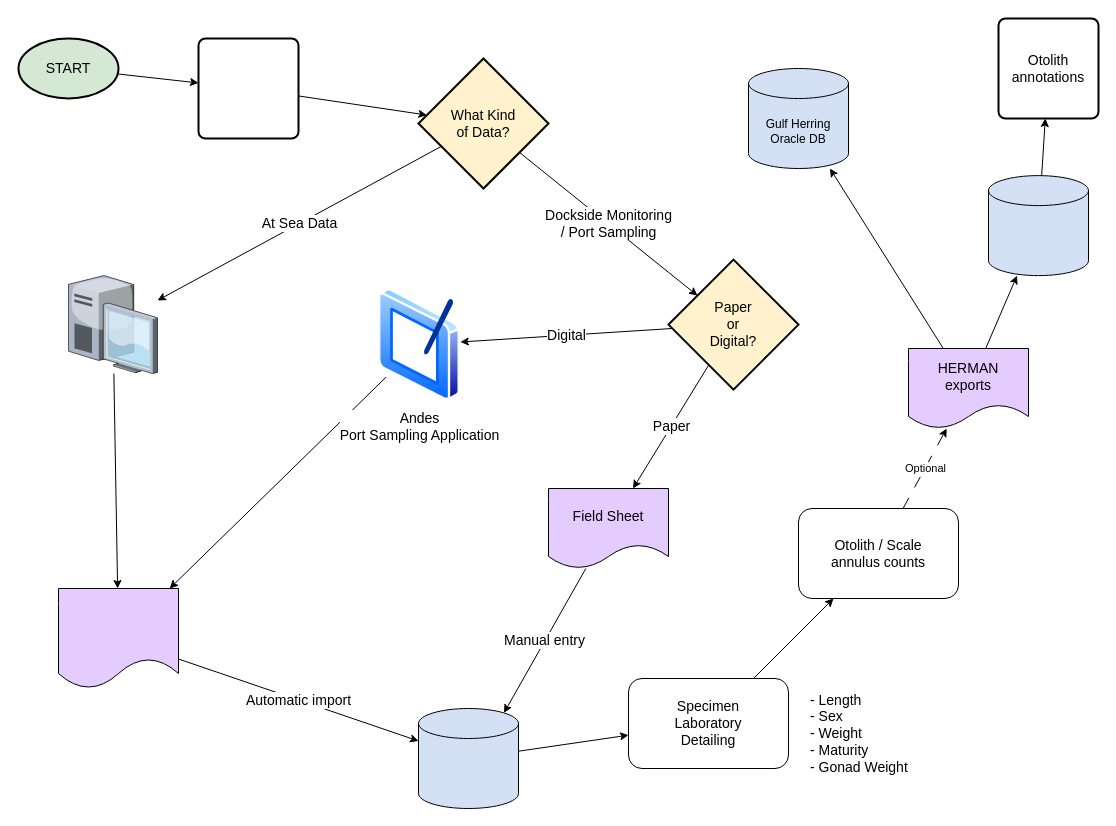
This 1116x826 diagram has some shape labels left out. The box of each missing label's shape, as (x1, y1, x2, y2) in pixels:
Andes Ecosystem Survey Application: (68, 275, 157, 373)
Andes HERMAN Report (JSON): (58, 588, 178, 688)
Collect Data: (197, 37, 299, 139)
DFO Dots: (988, 175, 1088, 276)
HERMAN: (418, 708, 518, 808)
